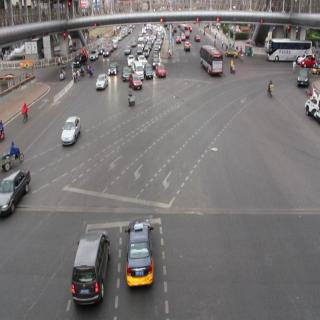BigCar: (268, 23, 312, 71), (201, 42, 224, 80)
Car: (124, 211, 156, 297), (79, 228, 112, 298), (2, 167, 32, 222), (61, 114, 86, 142), (104, 54, 122, 79), (97, 68, 111, 99), (127, 71, 144, 91), (156, 62, 169, 86)
